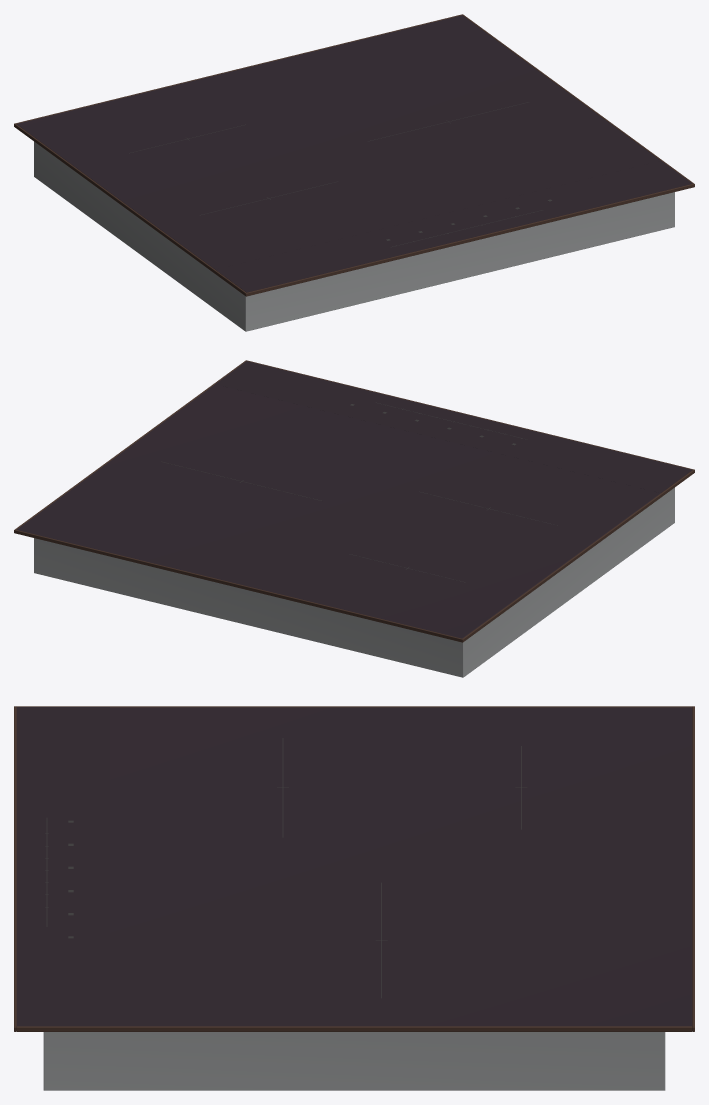
The model's file is BEI3A-framed-b19-5720fd.glb.
The picture shows the model from 3 angles, top to bottom: view 1: azimuth 30°, elevation 25°; view 2: azimuth 150°, elevation 25°; view 3: azimuth 270°, elevation 25°; orthographic projection. The views are drawn at different scales.
Parts seen in each view (by area): view 1: ControlSeparator, EmbeddedBody, ControlPanel, TopEdgeFB1, Slider; view 2: ControlSeparator, EmbeddedBody, ControlPanel, TopEdgeFB1, Slider; view 3: ControlSeparator, EmbeddedBody, ControlPanel, TopEdgeFB1, Slider.
Boxes of the visible parts, left/top/right/bottom form: ControlSeparator: left=16, top=15, right=660, bottom=269; EmbeddedBody: left=34, top=141, right=674, bottom=331; ControlPanel: left=215, top=161, right=692, bottom=292; TopEdgeFB1: left=14, top=14, right=694, bottom=296; Slider: left=129, top=102, right=551, bottom=247; ControlSeparator: left=17, top=384, right=660, bottom=638; EmbeddedBody: left=34, top=487, right=674, bottom=677; ControlPanel: left=216, top=361, right=692, bottom=492; TopEdgeFB1: left=14, top=360, right=694, bottom=642; Slider: left=161, top=402, right=557, bottom=582; ControlSeparator: left=108, top=707, right=692, bottom=1026; EmbeddedBody: left=43, top=1032, right=665, bottom=1090; ControlPanel: left=16, top=707, right=108, bottom=1026; TopEdgeFB1: left=14, top=706, right=694, bottom=1031; Slider: left=45, top=738, right=526, bottom=998.
Size of the model in its own units: 0.575 by 0.059 by 0.515.
